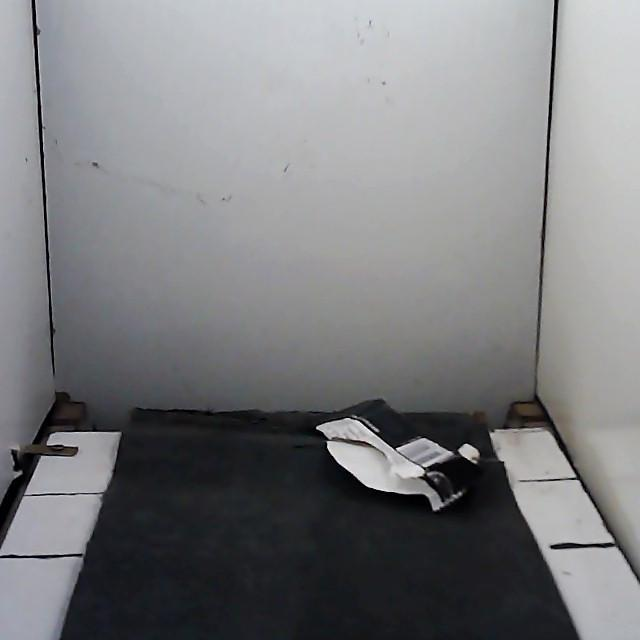plastico: (317, 400, 479, 511)
